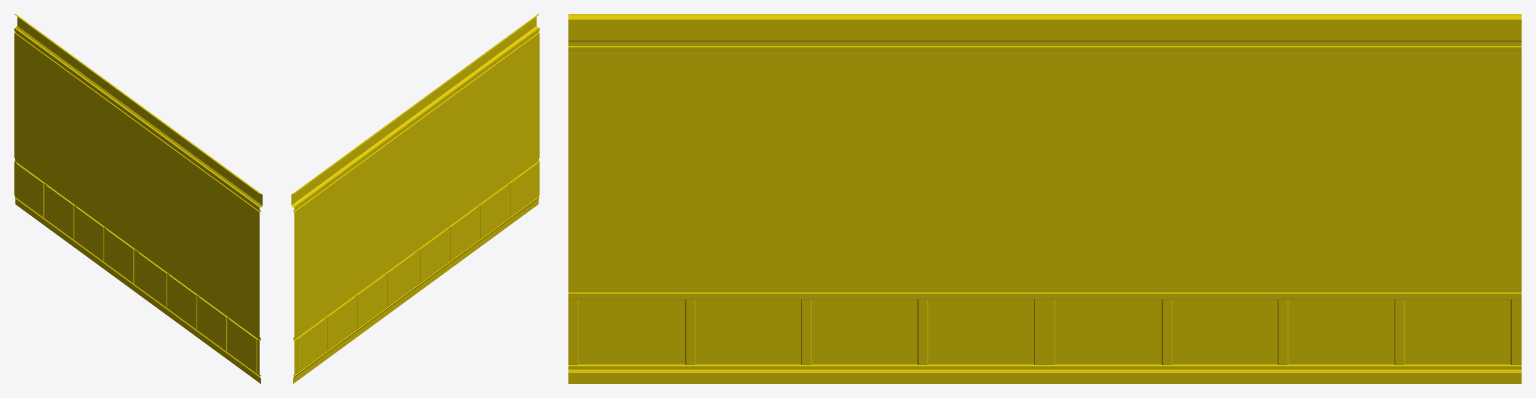
File: TempA_LongWall_01_Low.fbx
3 renders of one model, left to right at view 1: azimuth 30°, elevation 25°; view 2: azimuth 150°, elevation 25°; view 3: azimuth 270°, elevation 25°, orthographic. The views are drawn at different scales.
Visible parts, largest first — view 1: TempA_LongWall_01_Low; view 2: TempA_LongWall_01_Low; view 3: TempA_LongWall_01_Low.
Boxes of the visible parts, box(x1,y1,x2,y2) form: TempA_LongWall_01_Low: box(14, 14, 262, 383); TempA_LongWall_01_Low: box(291, 14, 539, 383); TempA_LongWall_01_Low: box(568, 14, 1521, 383).
Size of the model in its own units: 0.0901 by 4.27 by 10.
